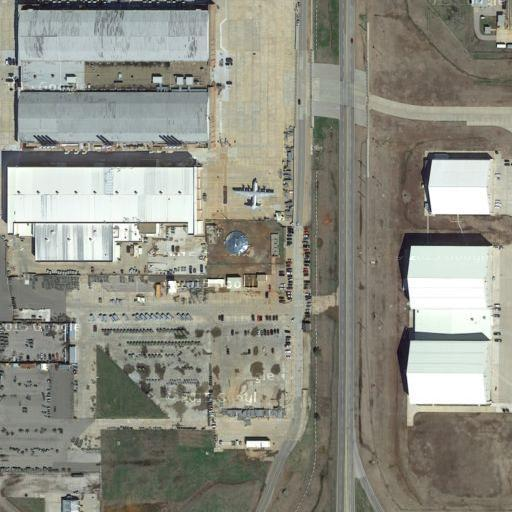C-130: (229, 175, 280, 212)
